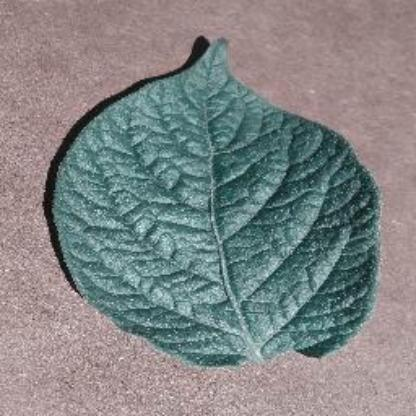Healthy-plant: (26, 31, 380, 371)
